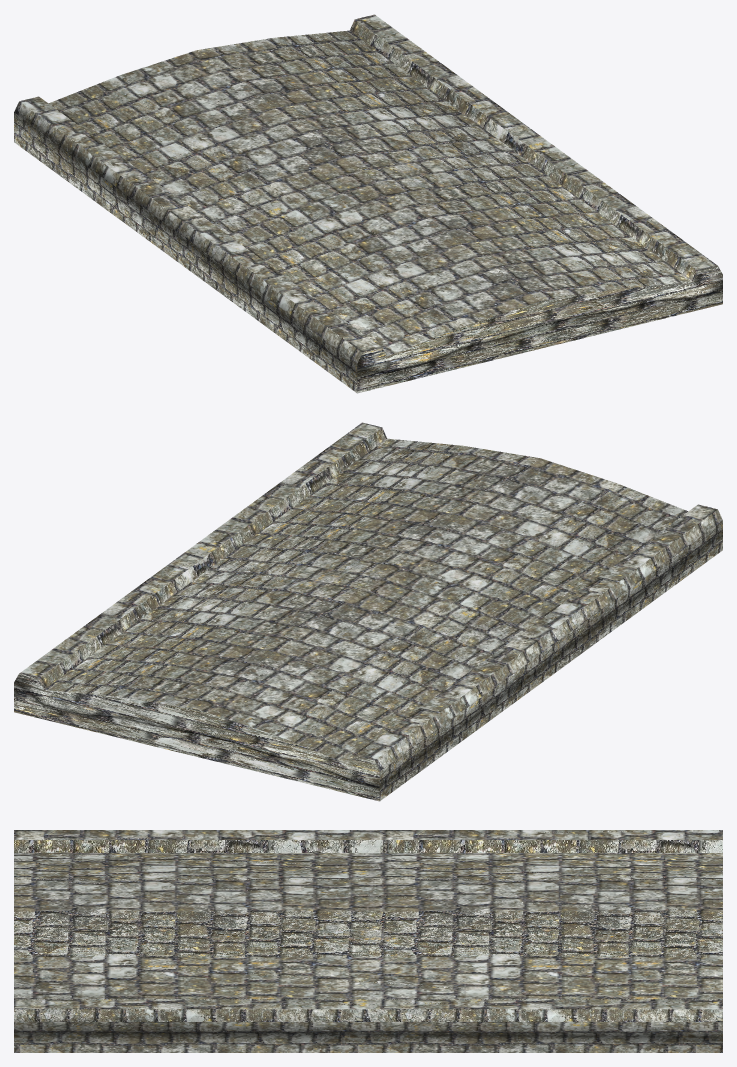
Rendered from Road.fbx.
3 views of the same model, one above another, from view 1: azimuth 30°, elevation 25°; view 2: azimuth 150°, elevation 25°; view 3: azimuth 270°, elevation 25° (orthographic). The views are drawn at different scales.
Parts seen in each view (by area): view 1: Cube; view 2: Cube; view 3: Cube.
Boxes of the visible parts, left/top/right/bottom form: Cube: left=14, top=14, right=722, bottom=393; Cube: left=14, top=422, right=722, bottom=801; Cube: left=14, top=830, right=722, bottom=1052.
Size of the model in its own units: 752 by 1223 by 93.24.
